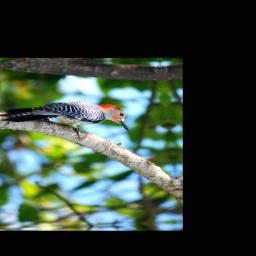Woodpecker: (0, 98, 130, 143)
